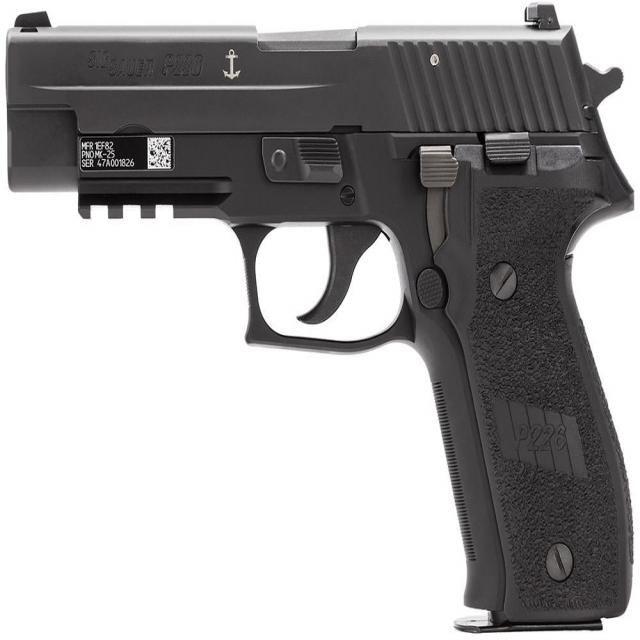gun: (4, 8, 637, 630)
